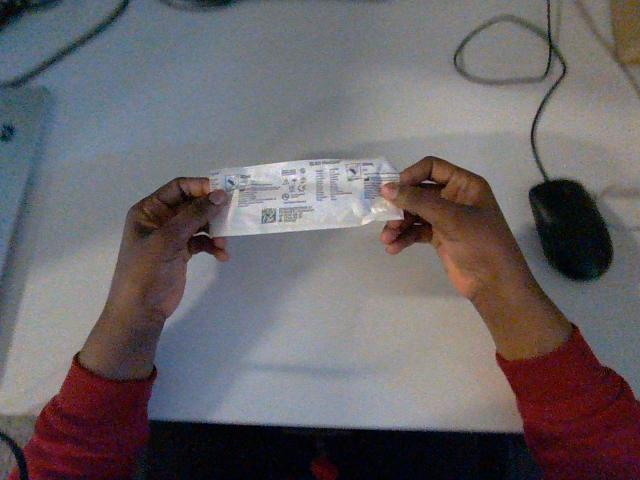syringe: (210, 158, 402, 235)
